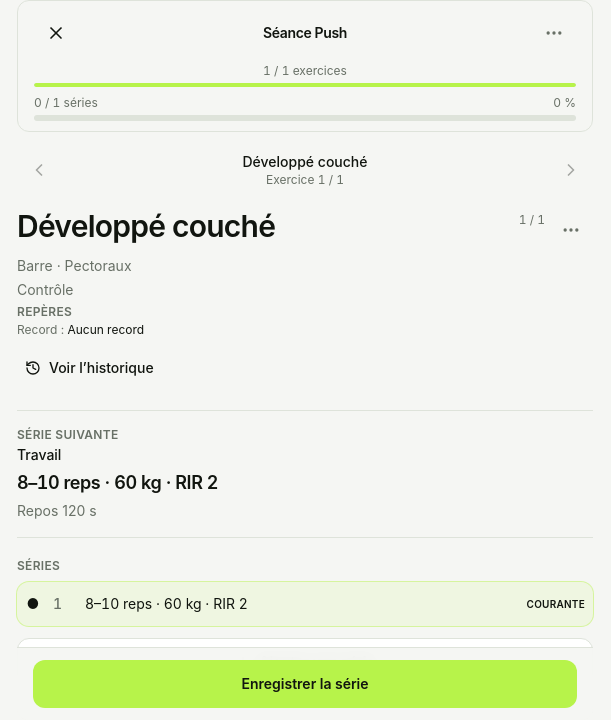
Test: Workout lifecycle UI (3.3) › signale un conflit de version sans resoumettre
The image size is (611, 720).
Click the button named "Actions de séance" at (554,33), box [532,11,576,55]
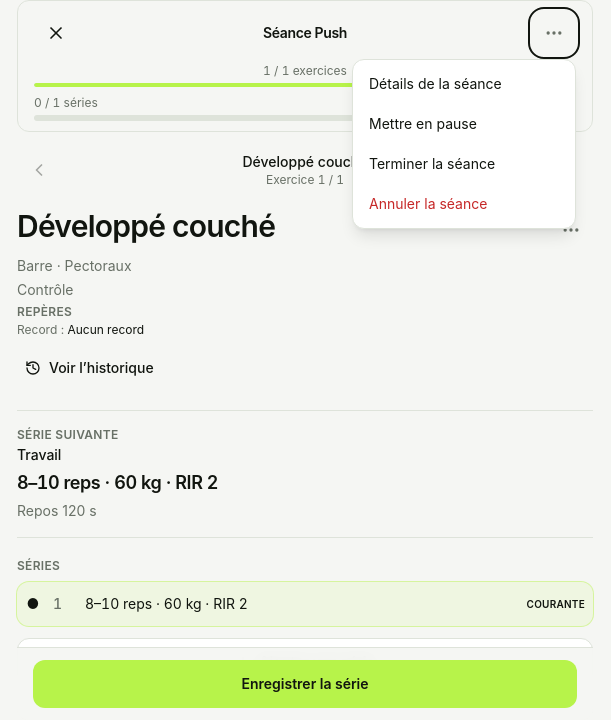
Click the menu item "Mettre en pause" at (464,124), box [357,104,571,144]
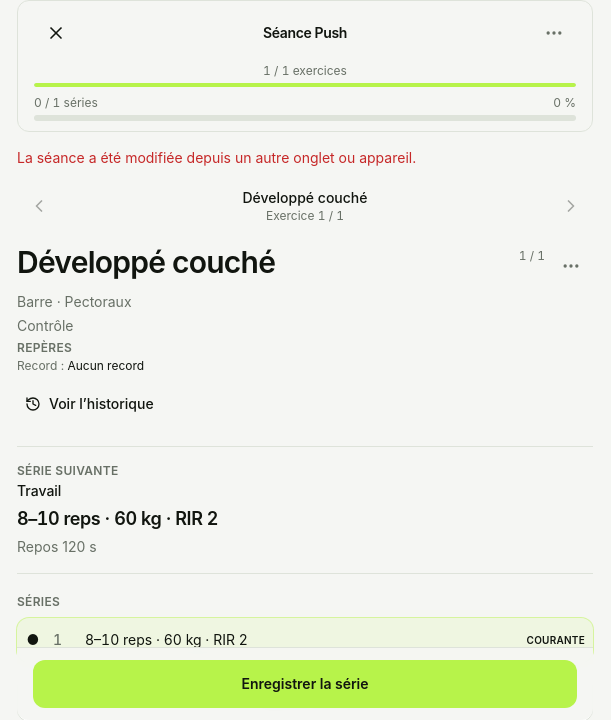
Now the text "La séance a été modifiée depuis un autre onglet ou appareil." is shown, box [17,149,416,166]
